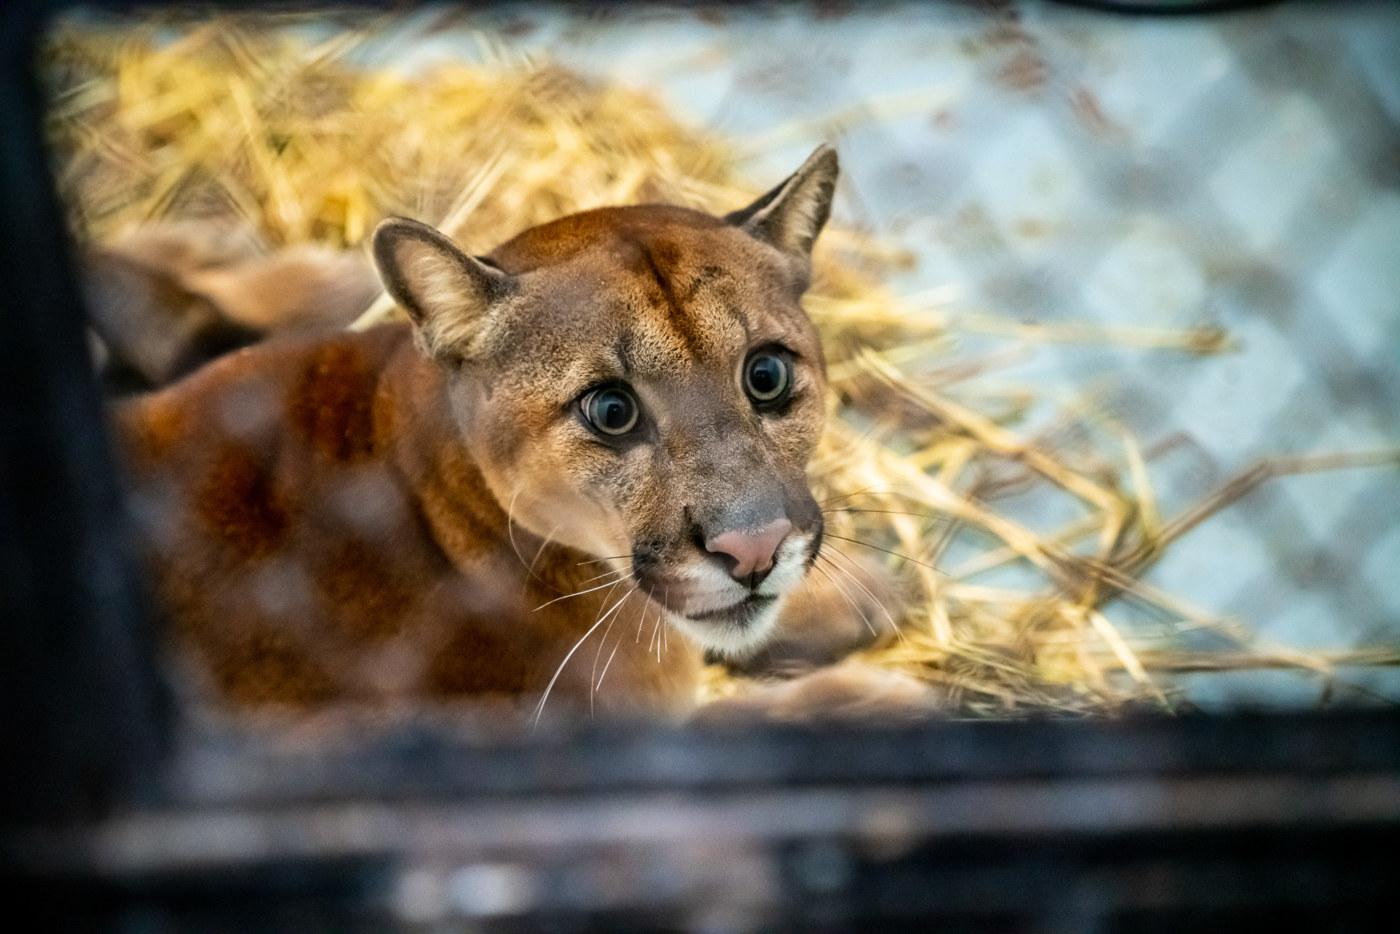OncaParda: (115, 140, 876, 692)
